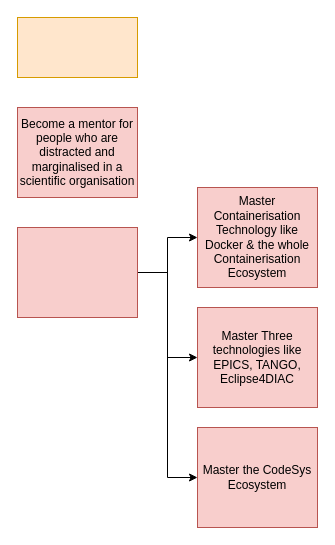
Some shapes in this 335 by 545 pixel diagram are drawn without their labels. Each missing label, with the centre of its shape:
"Master Difficult Things" goes at point (77, 272).
"Publish in High Impact Factor Journals" goes at point (77, 47).
